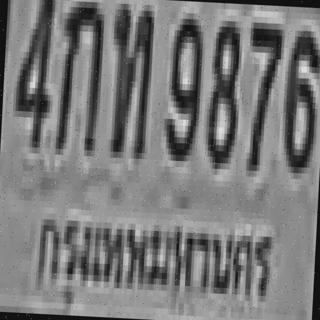A01: (53, 0, 103, 150)
A23: (106, 0, 152, 150)
N04: (11, 0, 53, 148)
N06: (280, 24, 320, 168)
N07: (242, 20, 281, 169)
N08: (204, 15, 241, 164)
N09: (163, 12, 202, 156)
P04: (30, 198, 279, 320)
